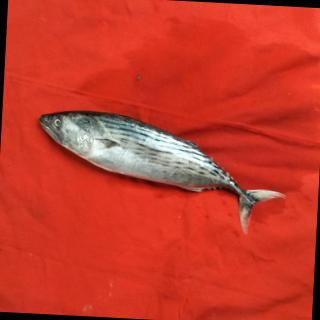Ikan: (30, 101, 297, 247)
